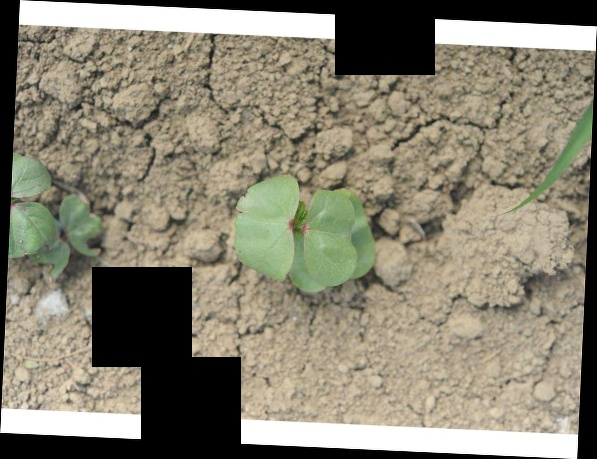cotton: (233, 174, 379, 294), (10, 154, 100, 277)
